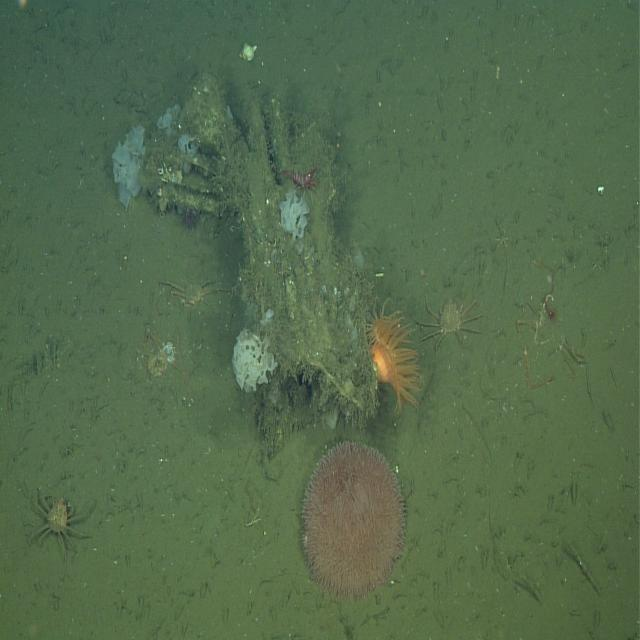Brittle Star: (487, 208, 517, 258), (240, 502, 265, 534)
Not Brittle Star: (296, 438, 412, 606), (364, 290, 422, 418), (23, 478, 98, 573), (150, 265, 229, 327), (415, 290, 488, 355), (231, 327, 279, 395), (111, 120, 146, 212), (277, 185, 310, 244), (276, 160, 323, 201), (536, 294, 560, 329), (181, 200, 203, 236), (237, 38, 260, 66)
